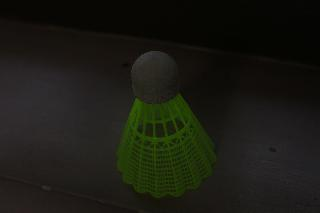shuttlecock: (116, 52, 216, 197)
